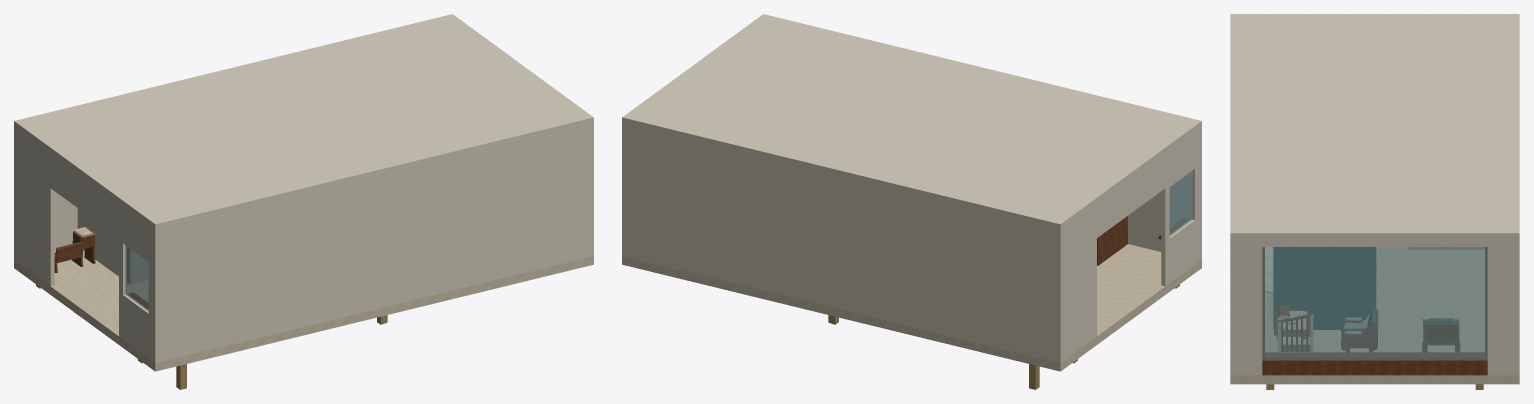
File: QuietGroveBank_427_r001.glb
3 views of the same model, side by side, from view 1: azimuth 30°, elevation 25°; view 2: azimuth 150°, elevation 25°; view 3: azimuth 270°, elevation 25° (orthographic). The views are drawn at different scales.
Visible parts, largest first — view 1: QG427_Ceiling, QG427_NorthSide, QG427_RoomFloor, QG427_EntryShoulderSouth, QG427_EntryHeader, QG427_StreetWindowLower, QG427_WashEntrySide, QG427_SouthSide, QG427_StreetWindowUpper, QG427_ScreenedStreetGlass, QGB427_CourtSouthPier; view 2: QG427_Ceiling, QG427_SouthSide, QG427_RoomFloor, QG427_EntryShoulderSouth, QG427_NorthSide, QG427_EntryHeader, QG427_StreetWindowLower, QG427_StreetWindowUpper, QG427_ScreenedStreetGlass, QG427_EntryPrivacyDogleg; view 3: QG427_Ceiling, QGB427_PrivateCourtGlass, QG427_RoomFloor, QG427_Cocoon01_RearLiner, QGB427_CourtNorthPier, QGB427_CourtSouthPier, QGB427_CourtSill, QGB427_CourtHeader, QGB427_DeepReveal_0.34, QG427_NorthSide, QG427_SouthSide, QG427_QG427_DayReadingChair__DAY_CHAIR_L_swept_walnut_cheek (+4 smaller).
Boxes of the visible parts, x1=… form: QG427_Ceiling: x1=14, y1=14, x2=593, y2=229; QG427_NorthSide: x1=153, y1=123, x2=593, y2=362; QG427_RoomFloor: x1=14, y1=250, x2=593, y2=371; QG427_EntryShoulderSouth: x1=16, y1=128, x2=54, y2=286; QG427_EntryHeader: x1=49, y1=153, x2=119, y2=238; QG427_StreetWindowLower: x1=119, y1=292, x2=152, y2=360; QG427_WashEntrySide: x1=77, y1=208, x2=133, y2=284; QG427_SouthSide: x1=14, y1=127, x2=77, y2=260; QG427_StreetWindowUpper: x1=119, y1=204, x2=152, y2=264; QG427_ScreenedStreetGlass: x1=125, y1=245, x2=148, y2=310; QGB427_CourtSouthPier: x1=585, y1=123, x2=593, y2=256; QG427_Ceiling: x1=622, y1=14, x2=1201, y2=229; QG427_SouthSide: x1=622, y1=123, x2=1062, y2=362; QG427_RoomFloor: x1=622, y1=244, x2=1201, y2=371; QG427_EntryShoulderSouth: x1=1063, y1=204, x2=1096, y2=360; QG427_NorthSide: x1=1128, y1=127, x2=1201, y2=260; QG427_EntryHeader: x1=1096, y1=152, x2=1166, y2=238; QG427_StreetWindowLower: x1=1161, y1=217, x2=1199, y2=286; QG427_StreetWindowUpper: x1=1163, y1=128, x2=1199, y2=190; QG427_ScreenedStreetGlass: x1=1169, y1=171, x2=1192, y2=235; QG427_EntryPrivacyDogleg: x1=1097, y1=216, x2=1127, y2=265; QG427_Ceiling: x1=1230, y1=14, x2=1519, y2=238; QGB427_PrivateCourtGlass: x1=1262, y1=247, x2=1487, y2=359; QG427_RoomFloor: x1=1230, y1=247, x2=1519, y2=384; QG427_Cocoon01_RearLiner: x1=1276, y1=247, x2=1373, y2=329; QGB427_CourtNorthPier: x1=1487, y1=239, x2=1519, y2=375; QGB427_CourtSouthPier: x1=1230, y1=239, x2=1262, y2=375; QGB427_CourtSill: x1=1262, y1=358, x2=1487, y2=375; QGB427_CourtHeader: x1=1262, y1=239, x2=1487, y2=246; QGB427_DeepReveal_0.34: x1=1265, y1=352, x2=1484, y2=357; QG427_NorthSide: x1=1230, y1=239, x2=1234, y2=375; QG427_SouthSide: x1=1515, y1=239, x2=1519, y2=375; QG427_QG427_DayReadingChair__DAY_CHAIR_L_swept_walnut_cheek: x1=1341, y1=322, x2=1377, y2=350.
Bounding box in the file's own units: 12.9 × 5.31 × 7.2.
Materials: 64 (49 with a texture image).
